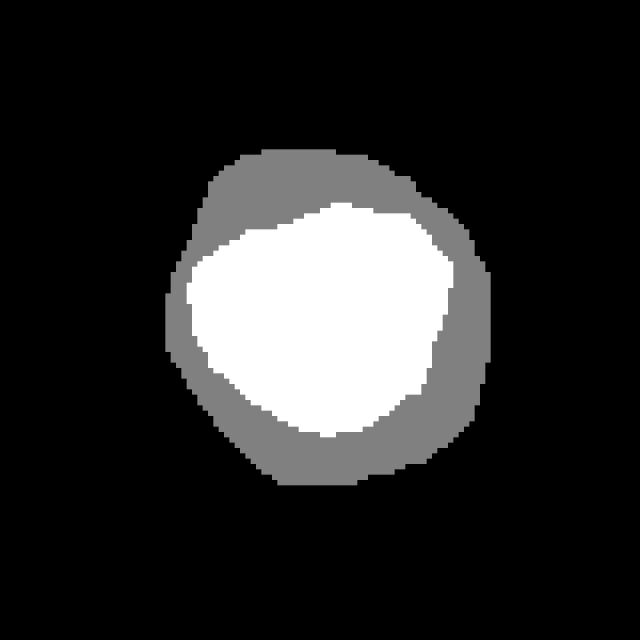WBC: (139, 133, 528, 523)
